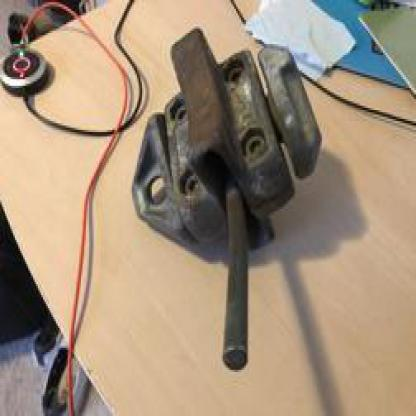Twistlock: (124, 20, 328, 385)
